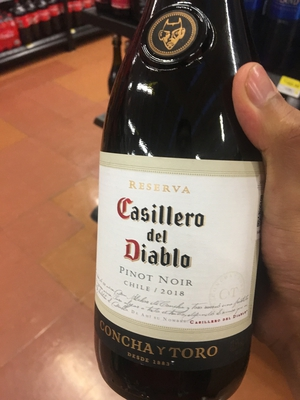casillero del diablo pinot noir: (71, 27, 282, 392)
